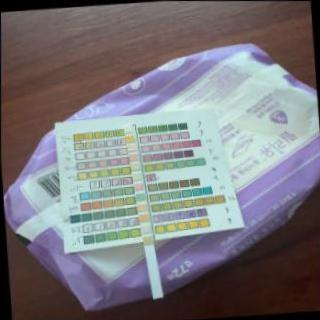mark: (135, 182, 144, 191), (125, 125, 134, 134), (143, 236, 153, 244), (137, 203, 147, 211), (140, 213, 148, 222), (133, 172, 142, 180), (131, 162, 140, 170), (136, 192, 144, 200), (130, 153, 138, 161), (142, 225, 150, 232), (128, 144, 136, 151), (126, 135, 134, 142)
